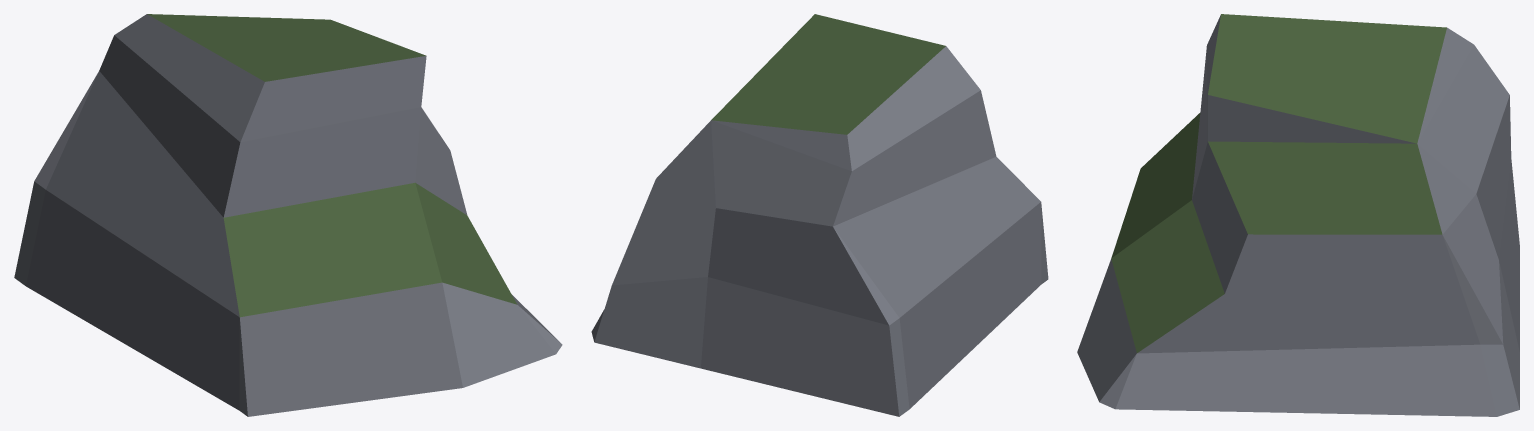
The model's file is Rock_Moss_3.glb.
3 renders of one model, left to right at view 1: azimuth 30°, elevation 25°; view 2: azimuth 150°, elevation 25°; view 3: azimuth 270°, elevation 25°, orthographic. The views are drawn at different scales.
Visible parts, largest first — view 1: Rock_Moss_3_Cube.020; view 2: Rock_Moss_3_Cube.020; view 3: Rock_Moss_3_Cube.020.
Part boxes in pixels (x1,y1,x2,y2): Rock_Moss_3_Cube.020: (14,14,562,416); Rock_Moss_3_Cube.020: (591,14,1048,416); Rock_Moss_3_Cube.020: (1077,14,1519,416).
Bounding box in the file's own units: 0.7384 × 0.5567 × 0.8026.
